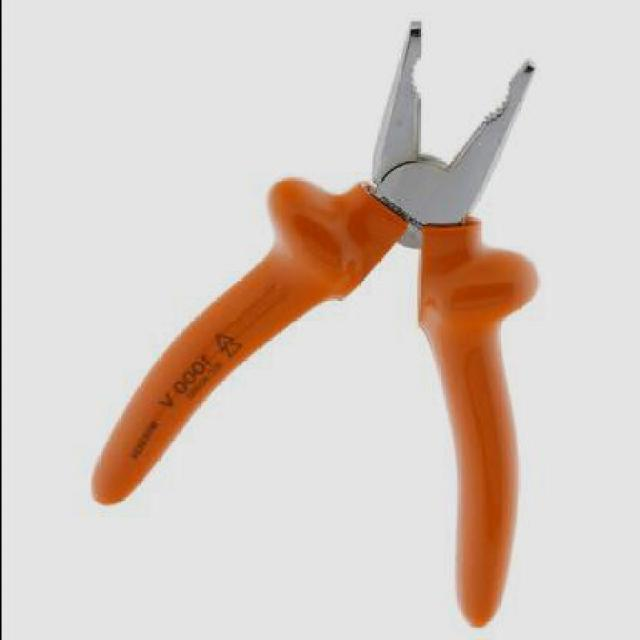pliers: (64, 16, 530, 633)
